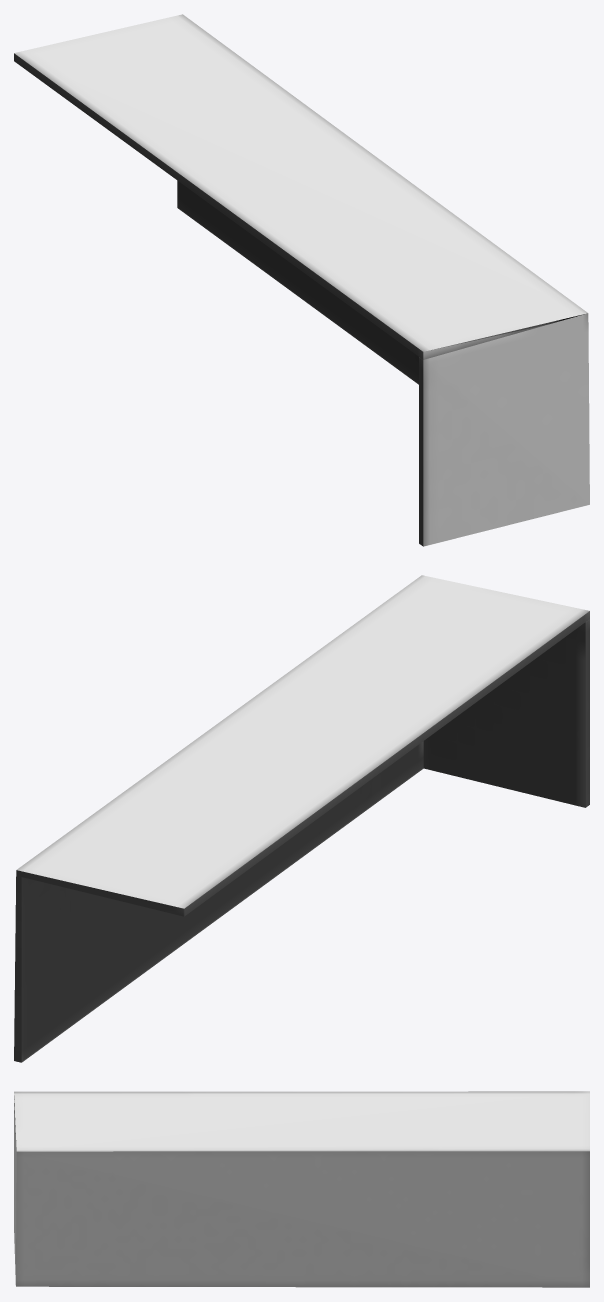
The model's file is bank-table.dae.
The picture shows the model from 3 angles, top to bottom: view 1: azimuth 30°, elevation 25°; view 2: azimuth 150°, elevation 25°; view 3: azimuth 270°, elevation 25°; orthographic projection. The views are drawn at different scales.
Visible parts, largest first — view 1: Plane; view 2: Plane; view 3: Plane.
Part boxes in pixels (bbox=[...]): Plane: bbox=[14, 14, 589, 546]; Plane: bbox=[14, 575, 589, 1062]; Plane: bbox=[14, 1091, 589, 1287].
Size of the model in its own units: 0.0749 by 0.3099 by 0.0815.
Materials: 1 (1 with a texture image).
